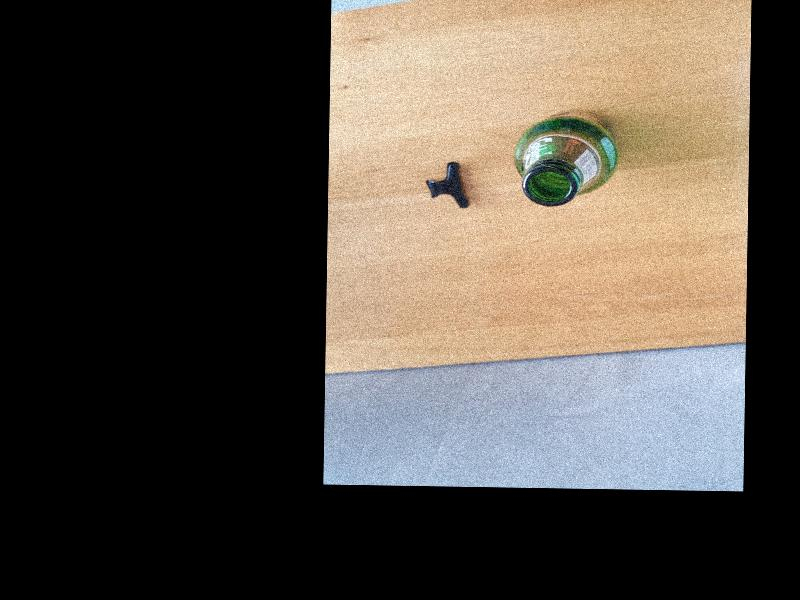Beer: (510, 107, 618, 207)
